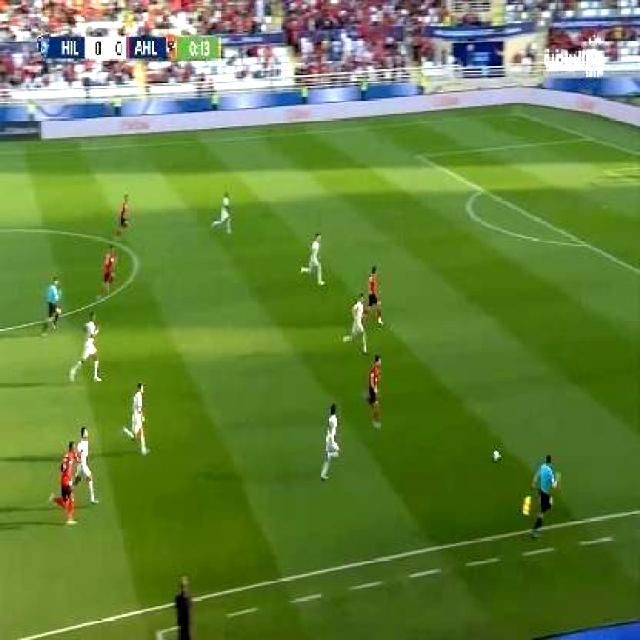bigarea_top_inner: (412, 149, 434, 166)
bigarea_top_outter: (580, 130, 595, 144)
bottom_arc_area_intersection: (578, 237, 590, 251)
corner: (511, 108, 532, 124)
top_arc_area_intersection: (476, 183, 486, 197)
